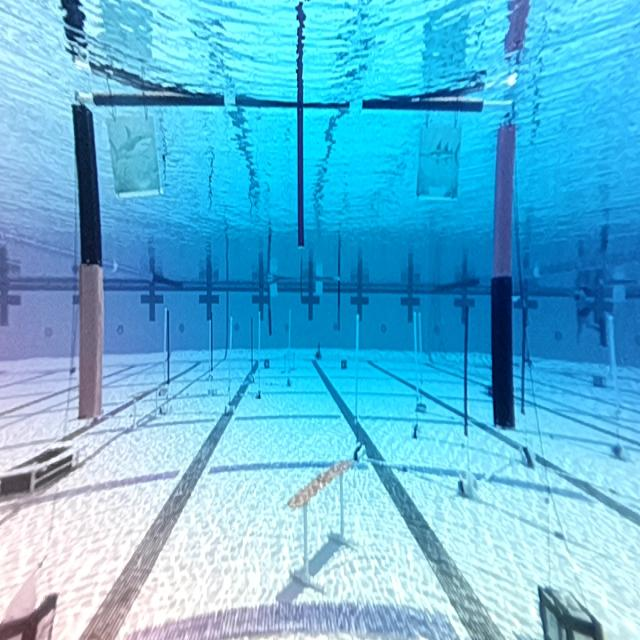pointed_nose: (418, 131, 460, 194)
round_nose: (109, 116, 158, 189)
